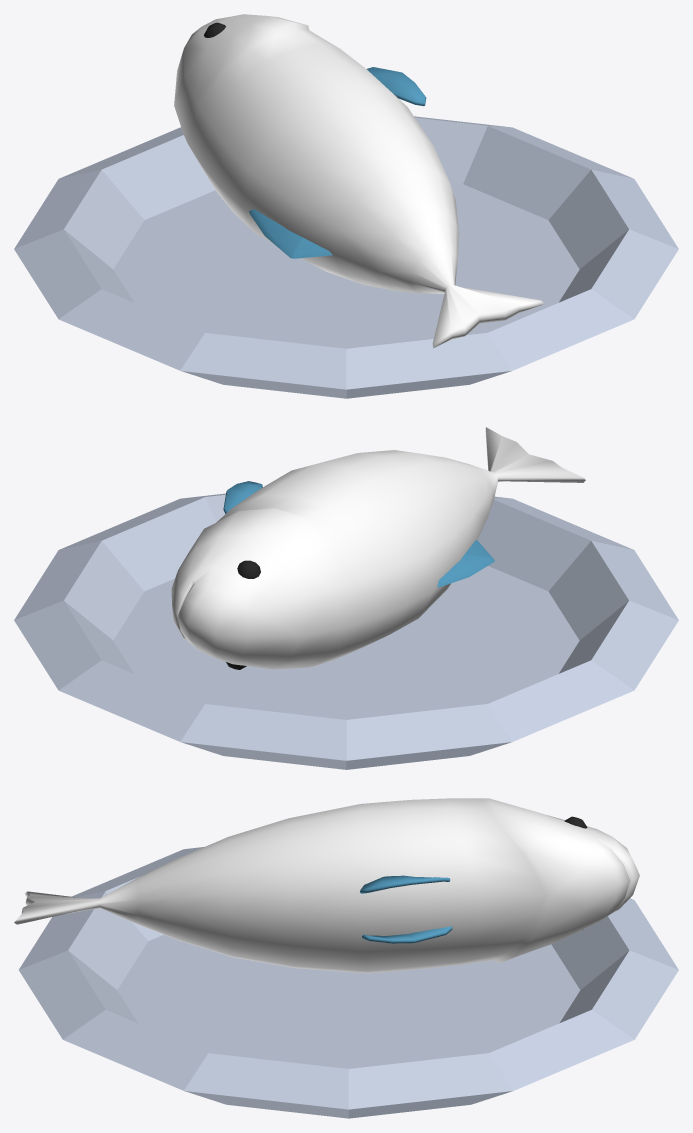
The model's file is fishplate.fbx.
3 views of the same model, one above another, from view 1: azimuth 30°, elevation 25°; view 2: azimuth 150°, elevation 25°; view 3: azimuth 270°, elevation 25° (orthographic).
Parts seen in each view (by area): view 1: HotDog_Stand_HotDog_Stand_0.003; view 2: HotDog_Stand_HotDog_Stand_0.003; view 3: HotDog_Stand_HotDog_Stand_0.003.
Boxes of the visible parts, x1=… form: HotDog_Stand_HotDog_Stand_0.003: x1=14, y1=14, x2=678, y2=398; HotDog_Stand_HotDog_Stand_0.003: x1=14, y1=427, x2=678, y2=769; HotDog_Stand_HotDog_Stand_0.003: x1=14, y1=798, x2=678, y2=1118.
Bounding box in the file's own units: 53.09 × 18.57 × 53.46.
